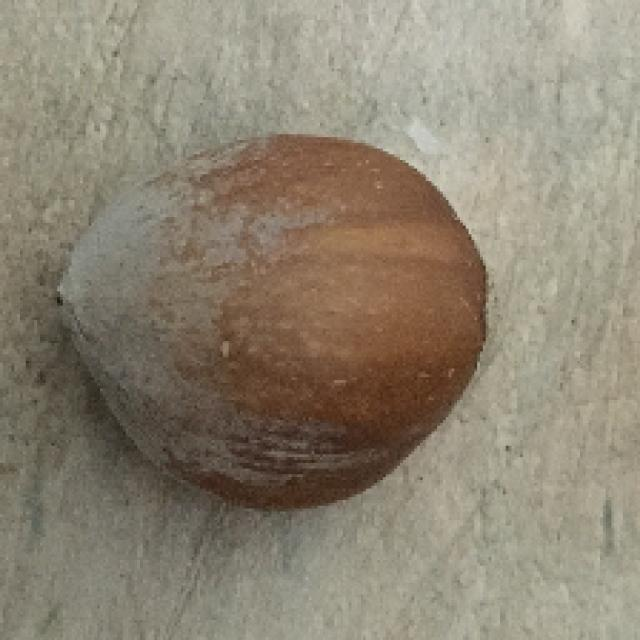qualityHazelnut: (60, 128, 498, 519)
